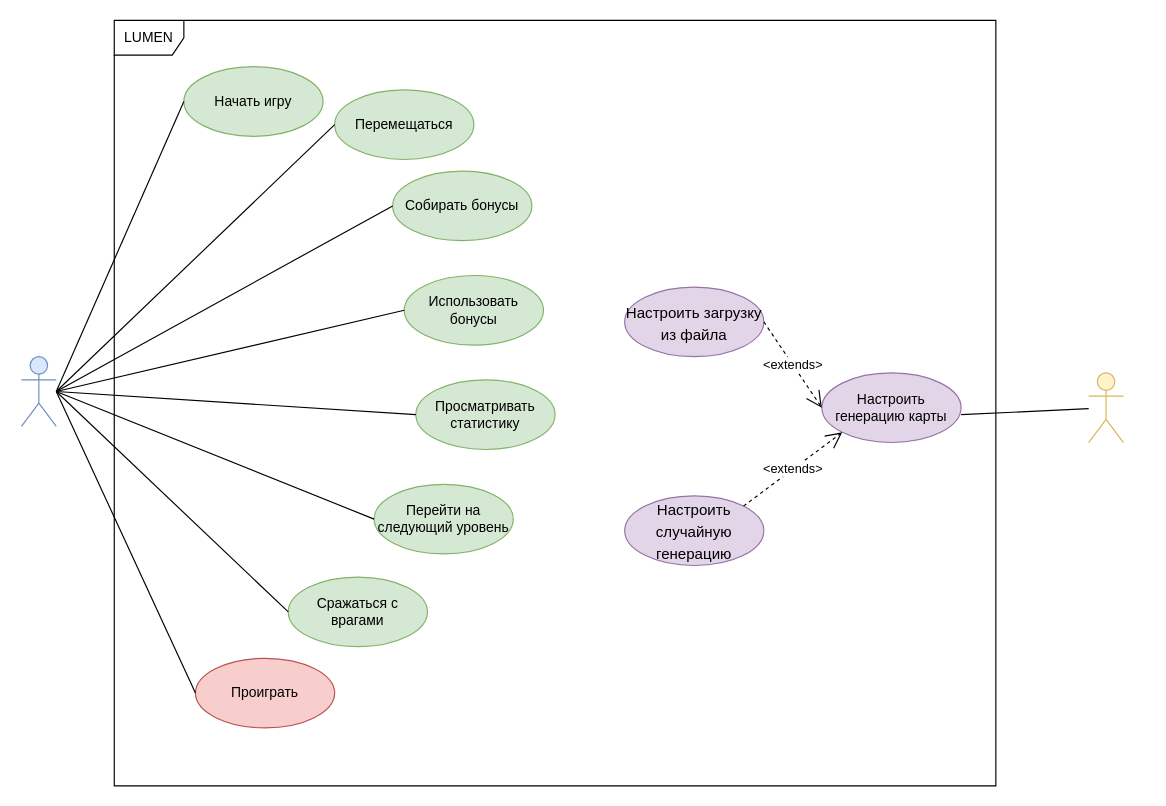
Some shapes in this 1166 by 806 pixel diagram are drawn without their labels. Here are the shapes that lost their labels. From the top down, the centre of each, then its label:
At [38,391]: "Игрок".
At [1105,407]: "Разработчик".
